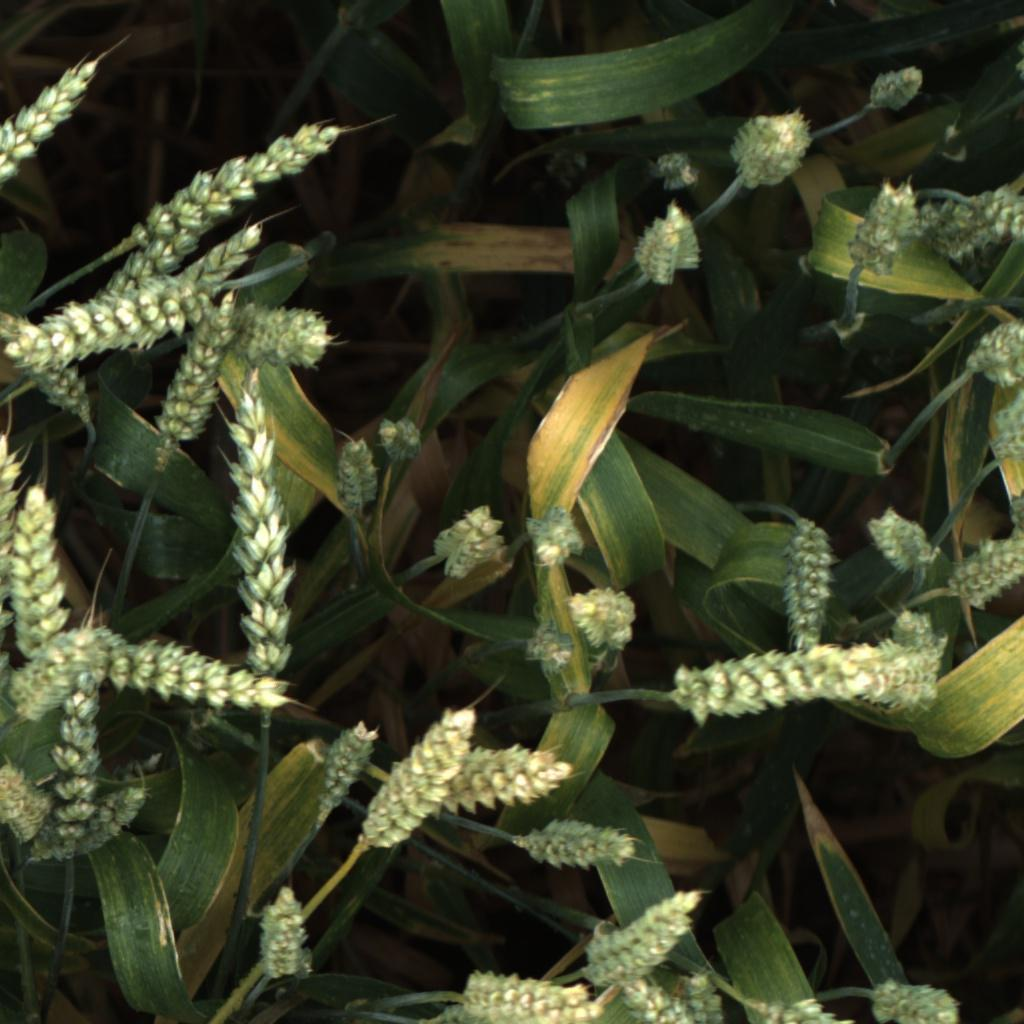0-0: (126, 115, 346, 255), (222, 372, 307, 679), (0, 269, 229, 378), (353, 694, 483, 859), (101, 632, 300, 722), (673, 642, 871, 730), (0, 54, 97, 231), (144, 291, 236, 457), (4, 616, 132, 727), (87, 212, 226, 312), (43, 659, 106, 855), (583, 882, 705, 976), (0, 310, 98, 426), (9, 478, 79, 640), (906, 177, 1024, 268), (767, 516, 842, 642), (440, 969, 610, 1024), (454, 736, 578, 811), (839, 173, 925, 281), (156, 219, 267, 300), (841, 646, 942, 729), (725, 106, 819, 190), (315, 712, 380, 830), (231, 300, 343, 367), (630, 200, 705, 294), (251, 884, 322, 981), (428, 496, 510, 578), (518, 819, 642, 872), (564, 580, 649, 652), (947, 534, 1024, 612), (959, 299, 1024, 387), (78, 783, 155, 854), (518, 499, 589, 575), (863, 497, 934, 573), (330, 429, 385, 519), (868, 976, 964, 1024), (0, 757, 50, 849), (857, 60, 927, 121), (744, 989, 860, 1024), (611, 977, 691, 1024), (509, 625, 579, 677), (677, 964, 736, 1024), (990, 367, 1024, 460), (377, 409, 428, 464), (650, 143, 705, 194), (896, 604, 944, 653), (21, 808, 57, 869), (110, 750, 168, 783), (1005, 485, 1024, 540)
